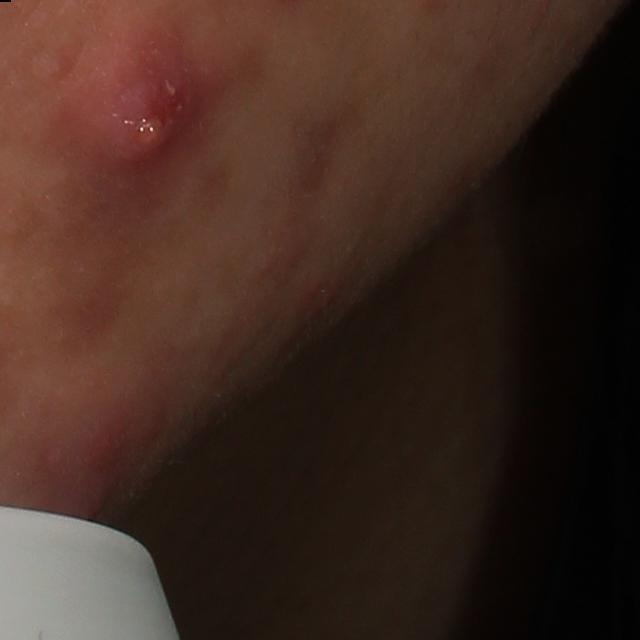nodule: (46, 25, 217, 214)
